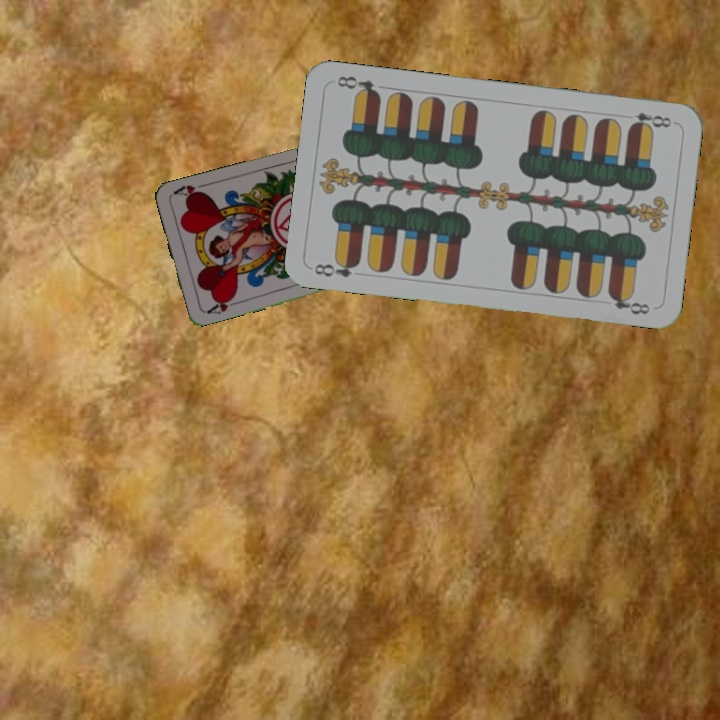E8: (310, 255, 363, 280), (625, 108, 677, 133)
HA: (201, 292, 241, 317)
